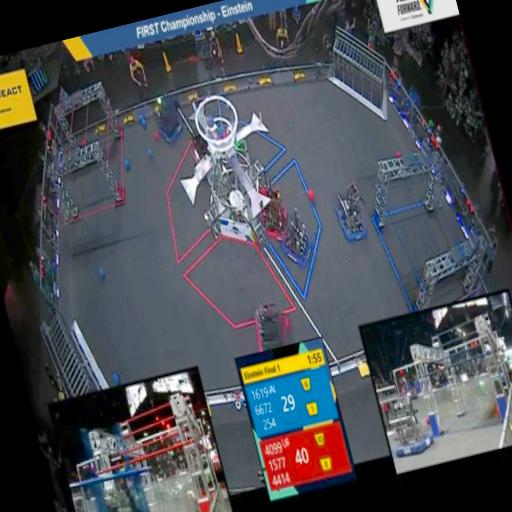robot: (326, 171, 372, 250), (246, 292, 298, 356), (250, 175, 296, 241), (276, 212, 319, 270), (146, 88, 188, 146)
